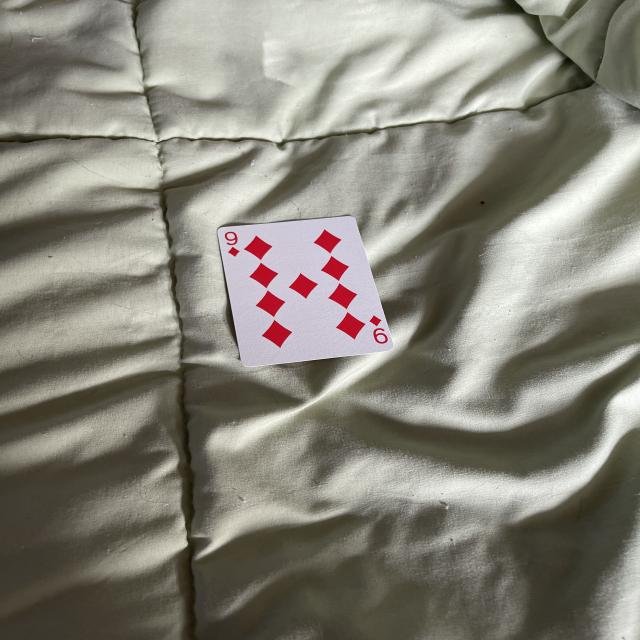9 of diamonds: (219, 217, 394, 369)
